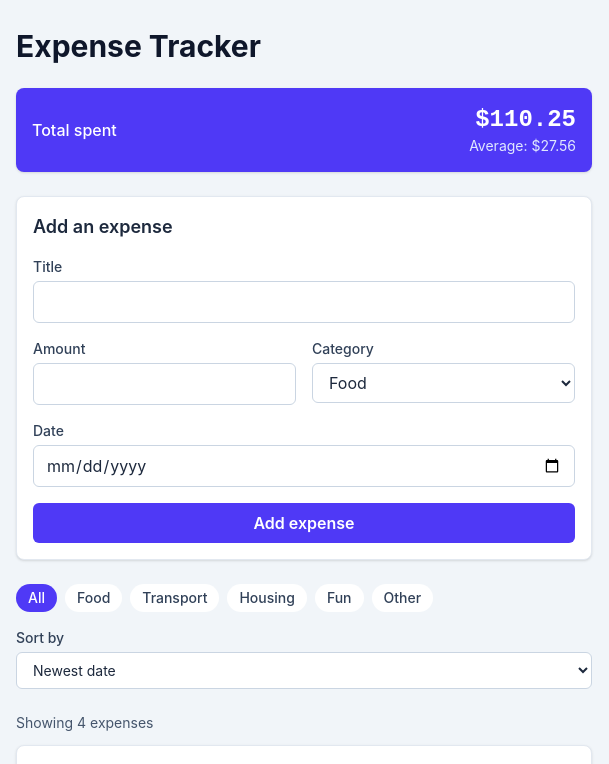
Test case: App › puts the newest expense at the top of the list
Type "Pizza" into the field labelled "Title" at (304, 302), box [33,281,575,323]
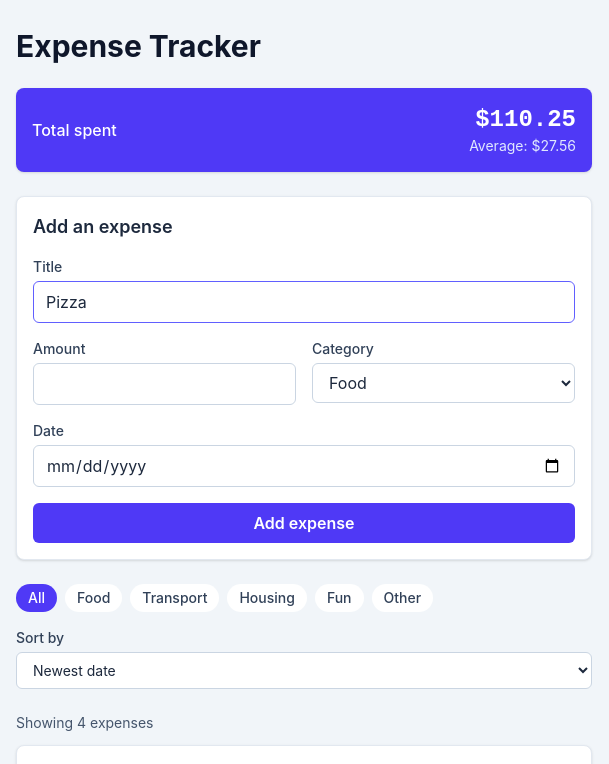
Type "20" into the number field labelled "Amount" at (164, 384), box [33,363,296,405]
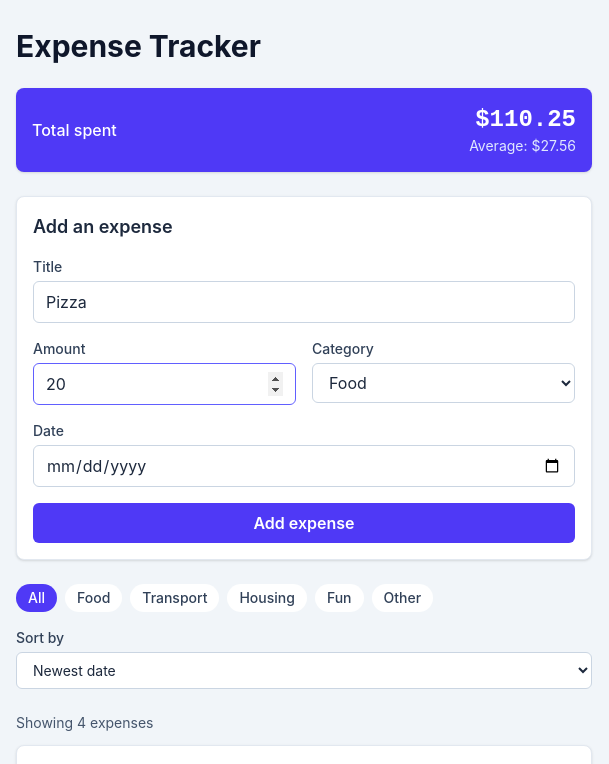
Type "2026-11-20" into the date field labelled "Date" at (304, 466), box [33,445,575,487]
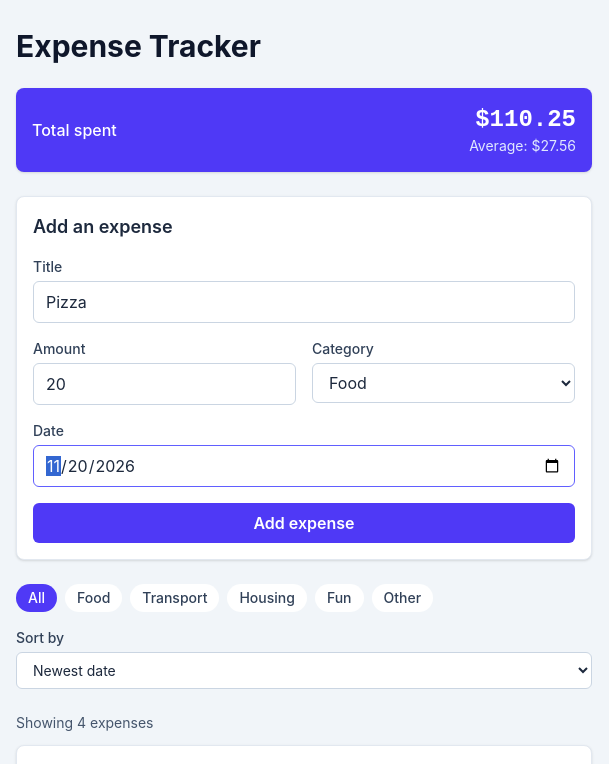
Click the button "Add expense" at (304, 523), box [33,503,575,543]
(page scrolled)
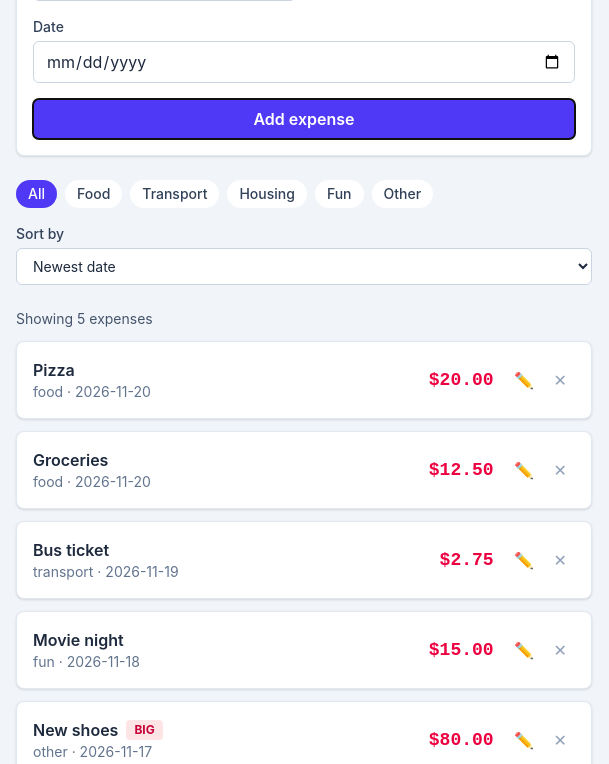
expect the list item "Pizza food · 2026-11-20 $20.00 ✏️ ✕" is shown: met, box [16,341,592,419]
